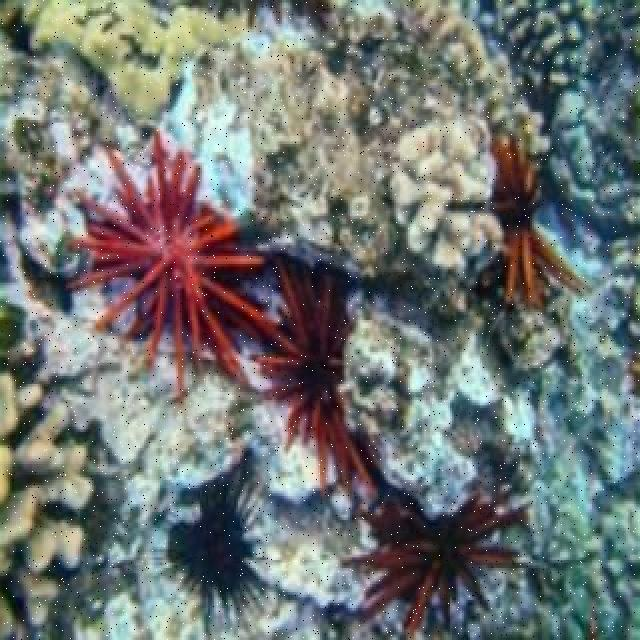reefs: (63, 129, 373, 510), (334, 469, 544, 637), (0, 375, 94, 637), (146, 468, 274, 636), (387, 118, 506, 278), (491, 112, 591, 299)
